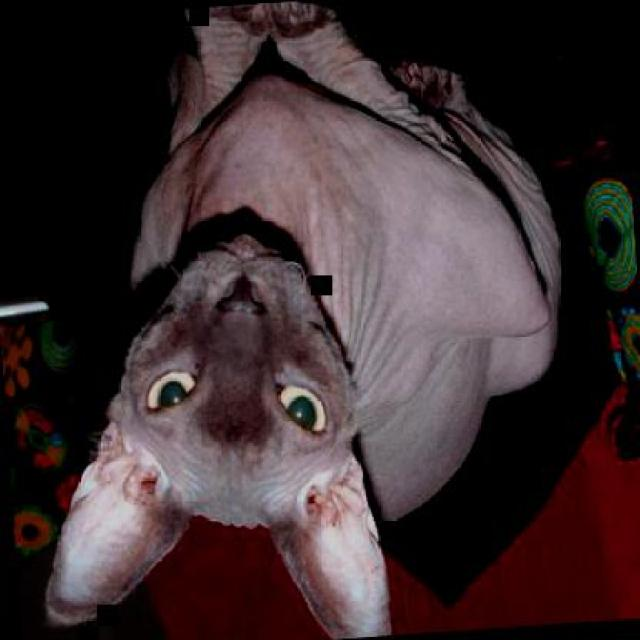cat: (1, 0, 589, 638)
